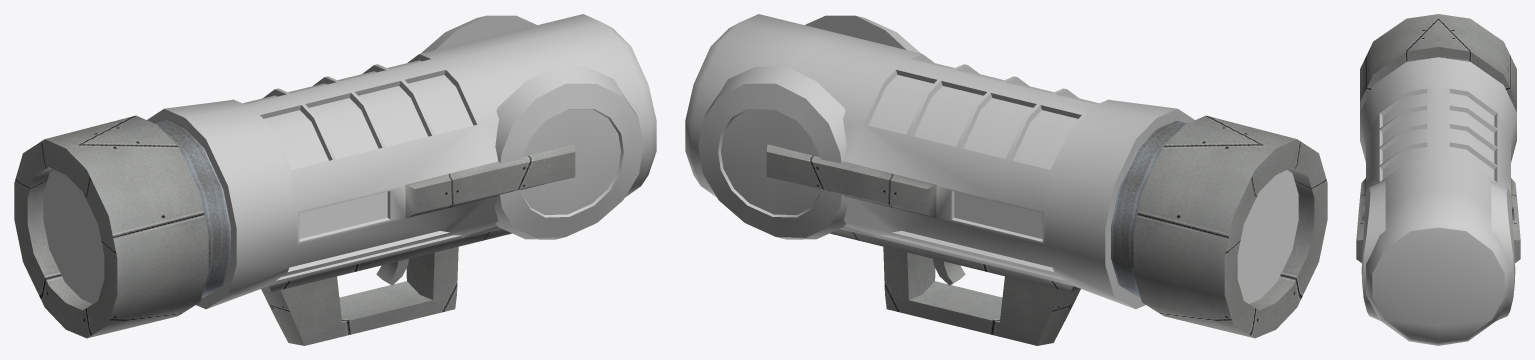
Rendered from FlashlightFinal.fbx.
The picture shows the model from 3 angles, left to right: view 1: azimuth 30°, elevation 25°; view 2: azimuth 150°, elevation 25°; view 3: azimuth 270°, elevation 25°; orthographic projection. The views are drawn at different scales.
Parts seen in each view (by area): view 1: Flashlight.004; view 2: Flashlight.004; view 3: Flashlight.004.
Part boxes in pixels (x1=…): Flashlight.004: x1=14, y1=14, x2=656, y2=345; Flashlight.004: x1=685, y1=14, x2=1327, y2=345; Flashlight.004: x1=1356, y1=14, x2=1520, y2=345.
Bounding box in the file's own units: 60.02 × 25.99 × 20.33.
